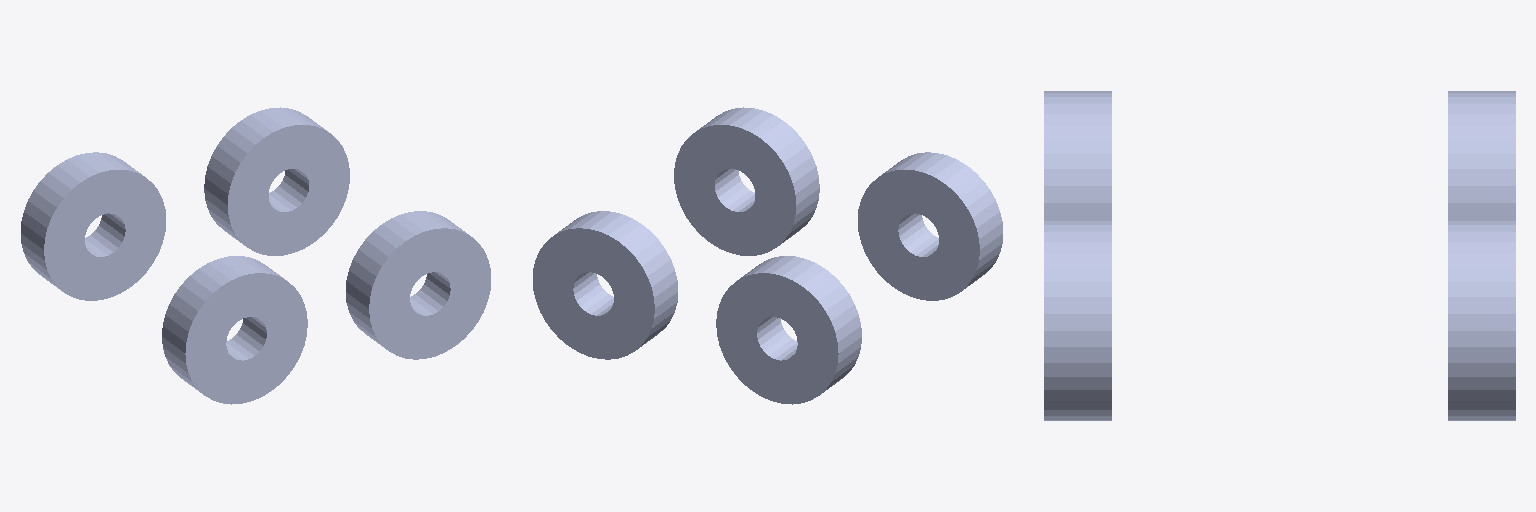
The robot description file, URDF, robot "igv_final_1":
<?xml version="1.0" encoding="utf-8"?>
<!-- This URDF was automatically created by SolidWorks to URDF Exporter! Originally created by [author] ([email redacted]) 
     Commit Version: 1.5.1-0-g916b5db  Build Version: 1.5.7152.31018
     For more information, please see http://wiki.ros.org/sw_urdf_exporter -->
<robot
  name="igv_final_1">
  <link
    name="base_link">
    <inertial>
      <origin
        xyz="0.0347114051526544 -0.123777607901242 0.0820892496165727"
        rpy="0 0 0" />
      <mass
        value="0.325132741228718" />
      <inertia
        ixx="0.000351943944995061"
        ixy="1.48892510259545E-20"
        ixz="-1.04636803417482E-22"
        iyy="0.000624650438049591"
        iyz="2.23656712893325E-20"
        izz="0.000955337745983216" />
    </inertial>
    <visual>
      <origin
        xyz="0 0 0"
        rpy="0 0 0" />
      <geometry>
        <mesh
          filename="package://igv_final_1/meshes/base_link.STL" />
      </geometry>
      <material
        name="">
        <color
          rgba="0.792156862745098 0.819607843137255 0.933333333333333 1" />
      </material>
    </visual>
    <collision>
      <origin
        xyz="0 0 0"
        rpy="0 0 0" />
      <geometry>
        <mesh
          filename="package://igv_final_1/meshes/base_link.STL" />
      </geometry>
    </collision>
  </link>
  <link
    name="wheel1">
    <inertial>
      <origin
        xyz="0.0797114051526544 -0.183777607901242 0.0820892496165727"
        rpy="0 0 0" />
      <mass
        value="0.0502654824574367" />
      <inertia
        ixx="1.42418866962737E-05"
        ixy="-2.82344315751433E-22"
        ixz="1.05587323873364E-38"
        iyy="2.51327412287183E-05"
        iyz="-6.66850482949345E-22"
        izz="1.42418866962737E-05" />
    </inertial>
    <visual>
      <origin
        xyz="0 0 0"
        rpy="0 0 0" />
      <geometry>
        <mesh
          filename="package://igv_final_1/meshes/wheel1.STL" />
      </geometry>
      <material
        name="">
        <color
          rgba="0.792156862745098 0.819607843137255 0.933333333333333 1" />
      </material>
    </visual>
    <collision>
      <origin
        xyz="0 0 0"
        rpy="0 0 0" />
      <geometry>
        <mesh
          filename="package://igv_final_1/meshes/wheel1.STL" />
      </geometry>
    </collision>
  </link>
  <joint
    name="wheel1"
    type="revolute">
    <origin
      xyz="0 0 0"
      rpy="0 0 0" />
    <parent
      link="base_link" />
    <child
      link="wheel1" />
    <axis
      xyz="0 -1 0" />
    <limit
      lower="0"
      upper="0"
      effort="0"
      velocity="0" />
  </joint>
  <link
    name="wheel4">
    <inertial>
      <origin
        xyz="0.0797114051526544 -0.0637776079012417 0.0820892496165727"
        rpy="0 0 0" />
      <mass
        value="0.0502654824574367" />
      <inertia
        ixx="1.42418866962737E-05"
        ixy="3.52930394689292E-23"
        ixz="-8.89030378337326E-39"
        iyy="2.51327412287184E-05"
        iyz="-6.66850482949346E-22"
        izz="1.42418866962737E-05" />
    </inertial>
    <visual>
      <origin
        xyz="0 0 0"
        rpy="0 0 0" />
      <geometry>
        <mesh
          filename="package://igv_final_1/meshes/wheel4.STL" />
      </geometry>
      <material
        name="">
        <color
          rgba="0.792156862745098 0.819607843137255 0.933333333333333 1" />
      </material>
    </visual>
    <collision>
      <origin
        xyz="0 0 0"
        rpy="0 0 0" />
      <geometry>
        <mesh
          filename="package://igv_final_1/meshes/wheel4.STL" />
      </geometry>
    </collision>
  </link>
  <joint
    name="wheel4"
    type="revolute">
    <origin
      xyz="0 0 0"
      rpy="0 0 0" />
    <parent
      link="base_link" />
    <child
      link="wheel4" />
    <axis
      xyz="0 -1 0" />
    <limit
      lower="0"
      upper="0"
      effort="0"
      velocity="0" />
  </joint>
  <link
    name="wheel2">
    <inertial>
      <origin
        xyz="-0.0102885948473456 -0.183777607901242 0.0820892496165727"
        rpy="0 0 0" />
      <mass
        value="0.0502654824574367" />
      <inertia
        ixx="1.42418866962737E-05"
        ixy="-2.82344315751433E-22"
        ixz="1.05587323873364E-38"
        iyy="2.51327412287183E-05"
        iyz="-6.66850482949345E-22"
        izz="1.42418866962737E-05" />
    </inertial>
    <visual>
      <origin
        xyz="0 0 0"
        rpy="0 0 0" />
      <geometry>
        <mesh
          filename="package://igv_final_1/meshes/wheel2.STL" />
      </geometry>
      <material
        name="">
        <color
          rgba="0.792156862745098 0.819607843137255 0.933333333333333 1" />
      </material>
    </visual>
    <collision>
      <origin
        xyz="0 0 0"
        rpy="0 0 0" />
      <geometry>
        <mesh
          filename="package://igv_final_1/meshes/wheel2.STL" />
      </geometry>
    </collision>
  </link>
  <joint
    name="wheel2"
    type="revolute">
    <origin
      xyz="0 0 0"
      rpy="0 0 0" />
    <parent
      link="base_link" />
    <child
      link="wheel2" />
    <axis
      xyz="0 -1 0" />
    <limit
      lower="0"
      upper="0"
      effort="0"
      velocity="0" />
  </joint>
  <link
    name="wheel3">
    <inertial>
      <origin
        xyz="-0.0102885948473456 -0.0637776079012417 0.0820892496165727"
        rpy="0 0 0" />
      <mass
        value="0.0502654824574367" />
      <inertia
        ixx="1.42418866962737E-05"
        ixy="3.52930394689293E-23"
        ixz="-8.89030378337326E-39"
        iyy="2.51327412287184E-05"
        iyz="-6.66850482949346E-22"
        izz="1.42418866962737E-05" />
    </inertial>
    <visual>
      <origin
        xyz="0 0 0"
        rpy="0 0 0" />
      <geometry>
        <mesh
          filename="package://igv_final_1/meshes/wheel3.STL" />
      </geometry>
      <material
        name="">
        <color
          rgba="0.792156862745098 0.819607843137255 0.933333333333333 1" />
      </material>
    </visual>
    <collision>
      <origin
        xyz="0 0 0"
        rpy="0 0 0" />
      <geometry>
        <mesh
          filename="package://igv_final_1/meshes/wheel3.STL" />
      </geometry>
    </collision>
  </link>
  <joint
    name="wheel3"
    type="revolute">
    <origin
      xyz="0 0 0"
      rpy="0 0 0" />
    <parent
      link="base_link" />
    <child
      link="wheel3" />
    <axis
      xyz="0 -1 0" />
    <limit
      lower="0"
      upper="0"
      effort="0"
      velocity="0" />
  </joint>
</robot>

--- Render facts (derived) ---
The picture shows the robot from 3 angles, left to right: view 1: azimuth 30°, elevation 25°; view 2: azimuth 150°, elevation 25°; view 3: azimuth 270°, elevation 25°; orthographic projection.
Model igv_final_1 with 5 links and 4 joints (4 revolute), rooted at base_link, posed all joints at 0.
Visible links, largest first — view 1: wheel4, wheel2, wheel1, wheel3; view 2: wheel1, wheel3, wheel4, wheel2; view 3: wheel1, wheel4, wheel2, wheel3.
Link boxes in pixels (x1=…): wheel4: x1=204, y1=107, x2=349, y2=255; wheel2: x1=162, y1=256, x2=307, y2=404; wheel1: x1=346, y1=211, x2=490, y2=359; wheel3: x1=21, y1=152, x2=165, y2=300; wheel1: x1=674, y1=107, x2=819, y2=255; wheel3: x1=716, y1=256, x2=861, y2=404; wheel4: x1=533, y1=211, x2=677, y2=359; wheel2: x1=858, y1=152, x2=1002, y2=300; wheel1: x1=1044, y1=219, x2=1111, y2=420; wheel4: x1=1448, y1=219, x2=1515, y2=420; wheel2: x1=1044, y1=91, x2=1111, y2=218; wheel3: x1=1448, y1=91, x2=1515, y2=218.
Size in the robot's own frame: 0.15 by 0.14 by 0.0598 metres.
4 mesh visuals loaded from 5 distinct referenced files (4 binary STL); not drawn: 1 (reference not matched to a file when rendering).